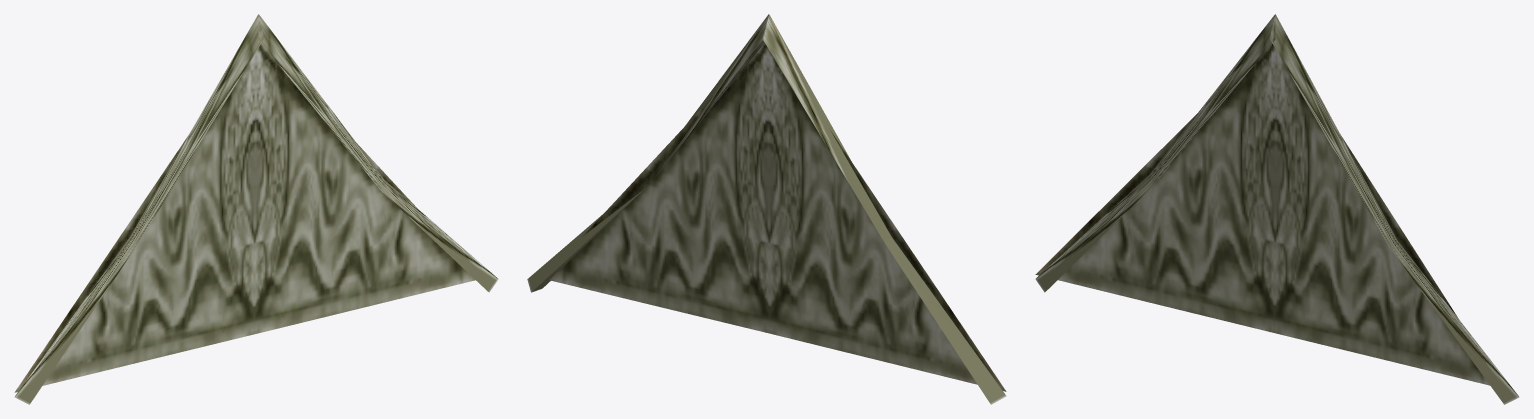
The model's file is Giebel [Giger]_2202.glb.
3 renders of one model, left to right at view 1: azimuth 30°, elevation 25°; view 2: azimuth 150°, elevation 25°; view 3: azimuth 330°, elevation 25°, orthographic.
Visible parts, largest first — view 1: pPlaneShape2, pPlaneShape1, pCylinderShape3, pCylinderShape2; view 2: pPlaneShape2, pPlaneShape1, pCylinderShape3, pCylinderShape2; view 3: pPlaneShape1, pPlaneShape2, pCylinderShape2, pCylinderShape3.
Part boxes in pixels (x1,y1,x2,y2): pPlaneShape2: (254,43,475,334); pPlaneShape1: (14,51,256,392); pCylinderShape3: (14,14,264,404); pCylinderShape2: (258,14,498,292); pPlaneShape2: (549,43,769,333); pPlaneShape1: (768,48,1006,391); pCylinderShape3: (763,14,1006,404); pCylinderShape2: (527,14,768,292); pPlaneShape1: (1035,44,1276,332); pPlaneShape2: (1274,50,1489,385); pCylinderShape2: (1269,14,1519,404); pCylinderShape3: (1035,14,1275,292).
Bounding box in the file's own units: 1.11 × 0.7302 × 0.0468.
Materials: 4 (4 with a texture image).
